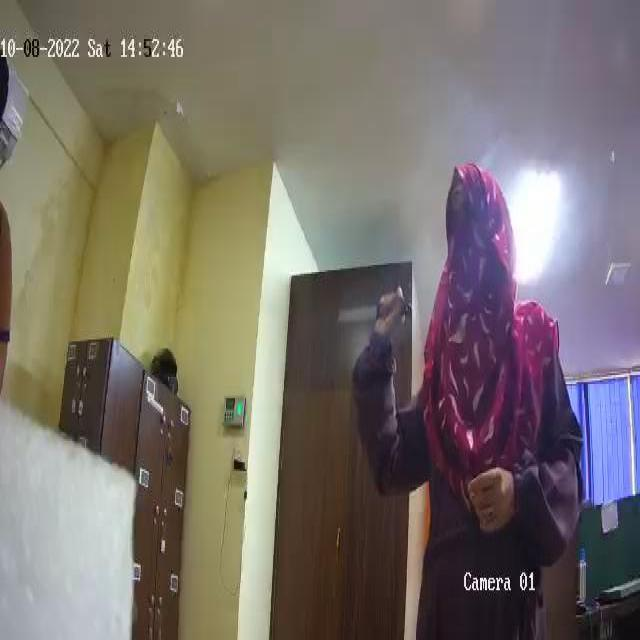Knife: (335, 286, 417, 334)
